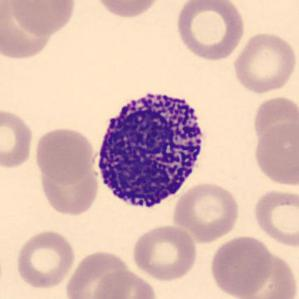Basophil: (88, 83, 213, 218)
RBC: (173, 0, 247, 63), (171, 179, 241, 243), (231, 30, 297, 96), (208, 234, 275, 297), (130, 222, 200, 282), (14, 228, 78, 291), (35, 154, 100, 216), (32, 125, 97, 185), (0, 1, 60, 63), (63, 247, 132, 299), (252, 120, 298, 189), (251, 186, 298, 249), (235, 257, 299, 299), (7, 0, 78, 37), (250, 94, 298, 148), (0, 106, 35, 171), (91, 268, 159, 299), (90, 0, 166, 20)
